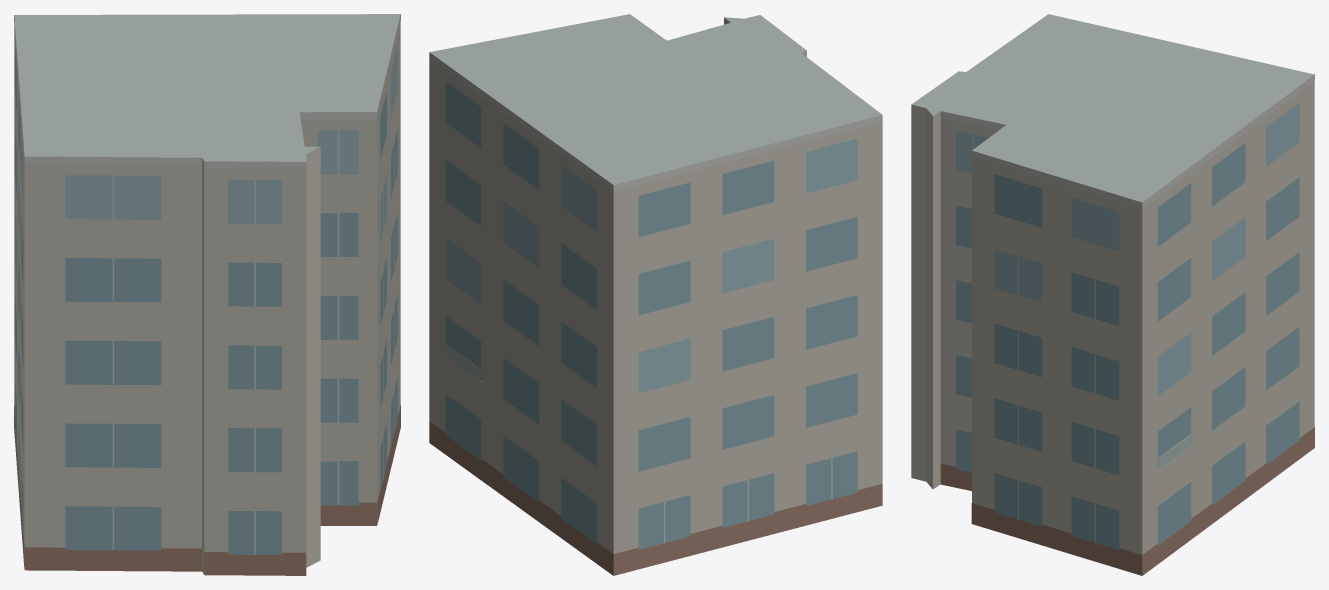
Rendered from survey-upis-32673940.glb.
3 views of the same model, side by side, from view 1: azimuth 30°, elevation 25°; view 2: azimuth 150°, elevation 25°; view 3: azimuth 270°, elevation 25° (orthographic). The views are drawn at different scales.
Parts seen in each view (by area): view 1: survey-upis-32673940.tmp; view 2: survey-upis-32673940.tmp; view 3: survey-upis-32673940.tmp.
Boxes of the visible parts, x1,y1,x2,y2 form: survey-upis-32673940.tmp: [14, 14, 400, 575]; survey-upis-32673940.tmp: [429, 14, 882, 575]; survey-upis-32673940.tmp: [911, 14, 1314, 575].
Size of the model in its own units: 15.38 by 14.2 by 13.92.
